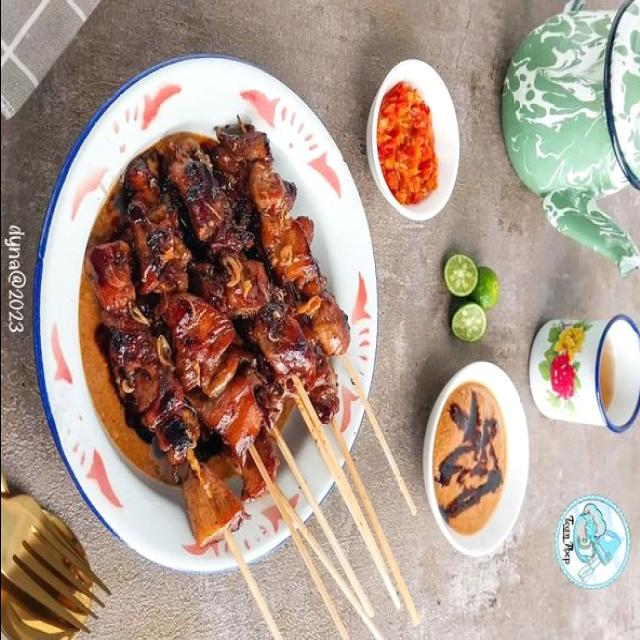sate: (98, 144, 371, 628)
